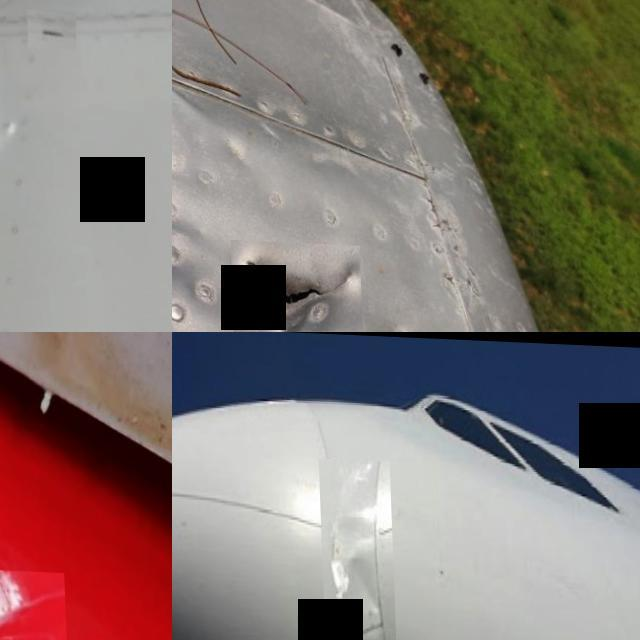Crack: (227, 238, 360, 332), (27, 5, 76, 46)
Dent: (320, 458, 393, 640)
